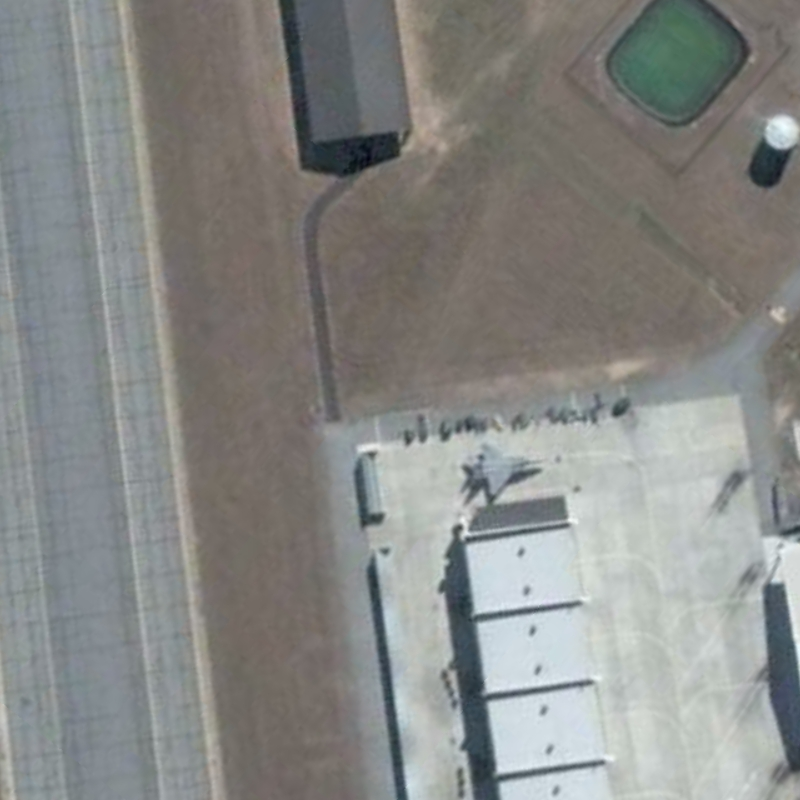A13: (457, 436, 548, 504)
